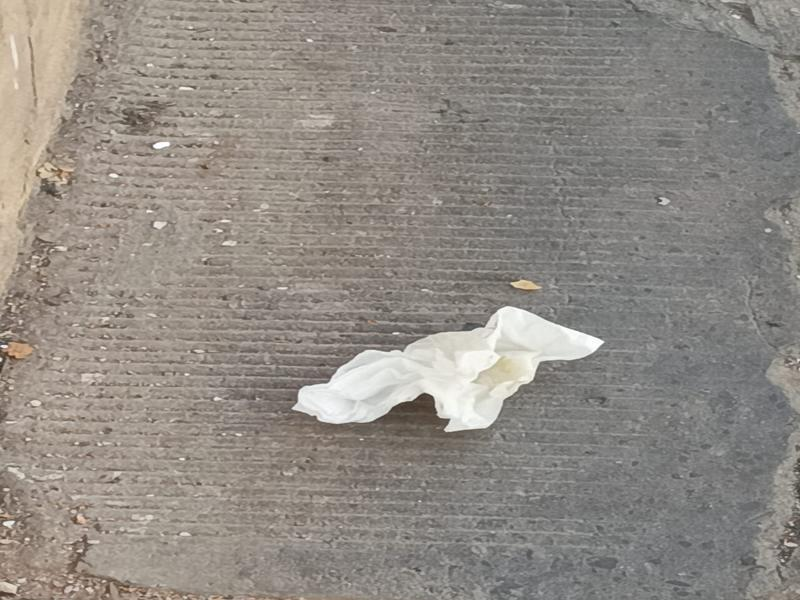papel: (293, 307, 604, 436)
